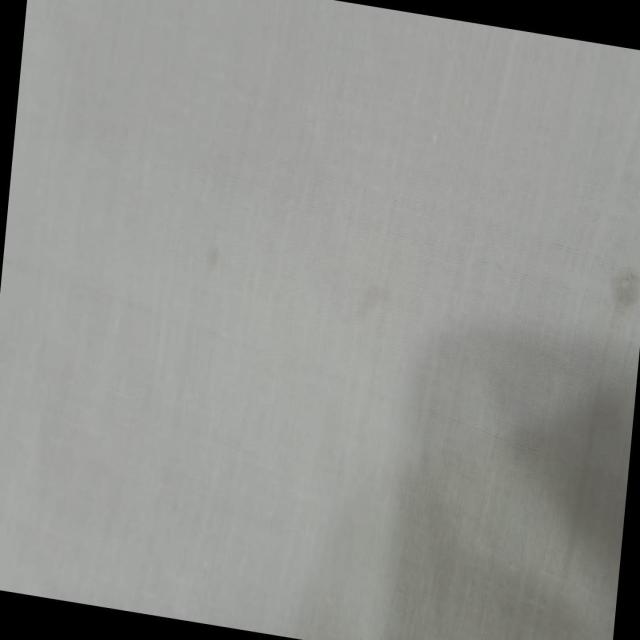stain: (346, 266, 409, 338), (178, 224, 238, 287), (601, 248, 640, 328)
